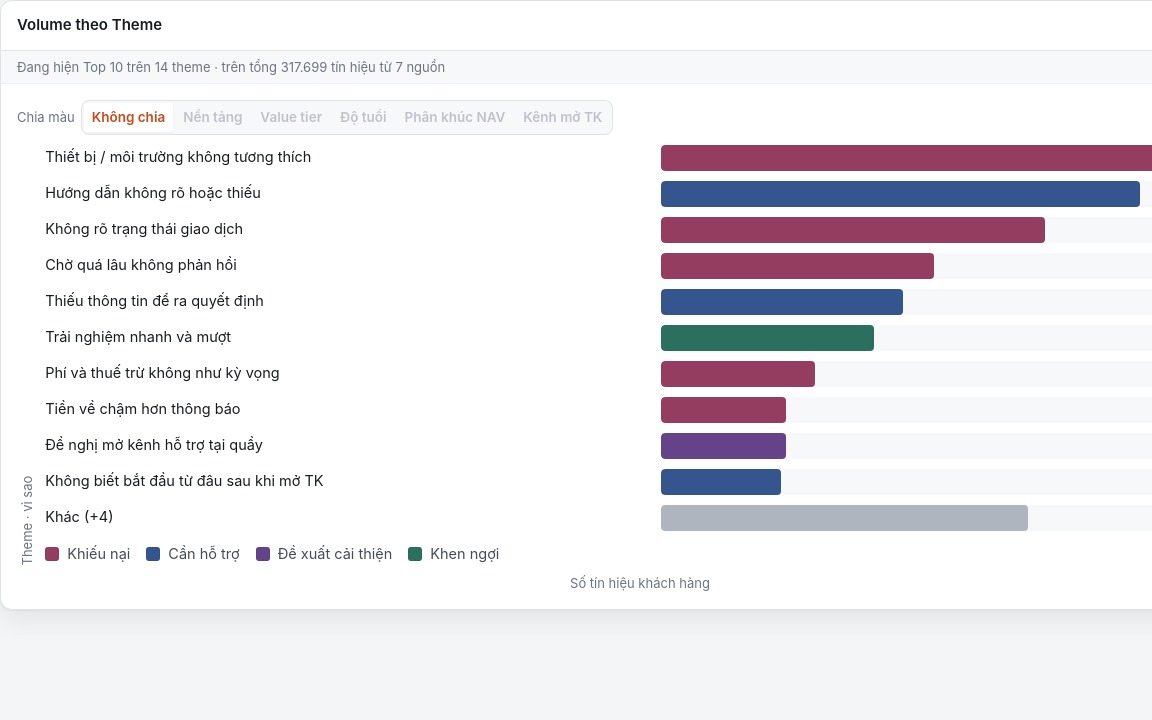
it: QuantifyWidget — drill-down hàng gộp 'Khác (+N)' › bấm hàng gộp → liệt kê các NHÓM bị cắt, số nhóm khớp nhãn '(+4)' (luật 11/08: đã bỏ 'không phải bản ghi')
This screenshot has width=1152, height=720.
Click the button "Khác (+4) 1,6K".
click(79, 517)  # box [45, 505, 1151, 531]
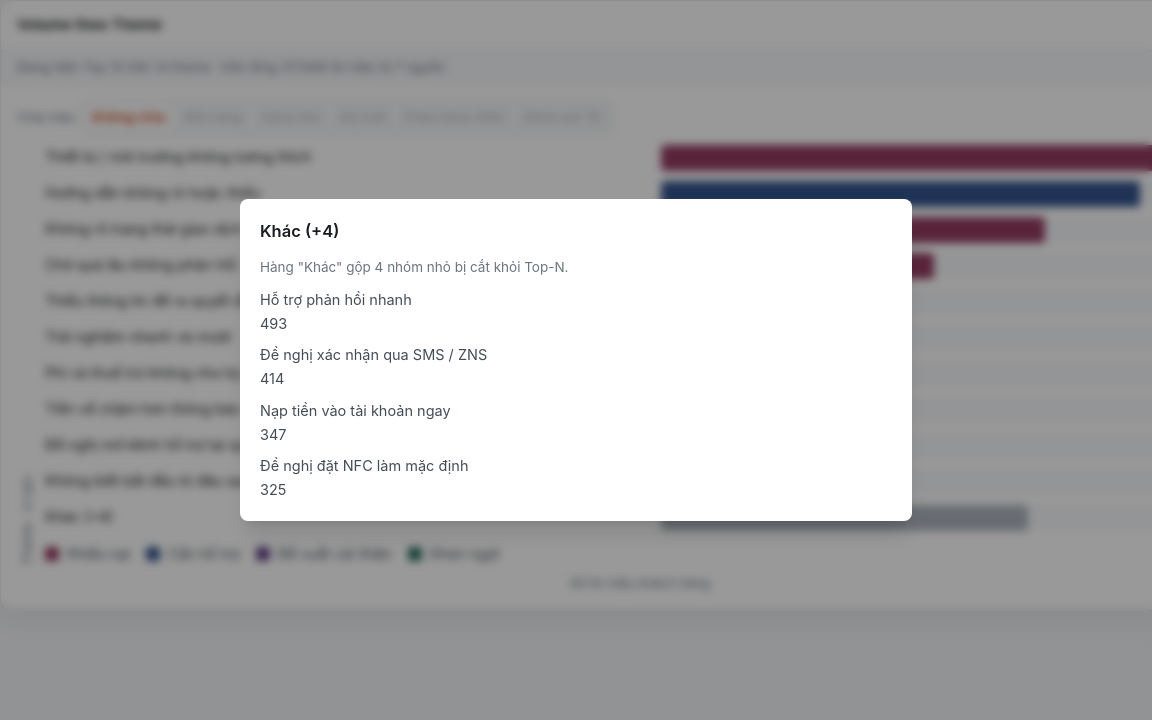
Expected: the text with test id "drill-denom" does not show "không phải bản ghi", [260, 259, 568, 275]
Expected: the text with test id "drill-denom" shows "gộp 4 nhóm nhỏ", [260, 259, 568, 275]
